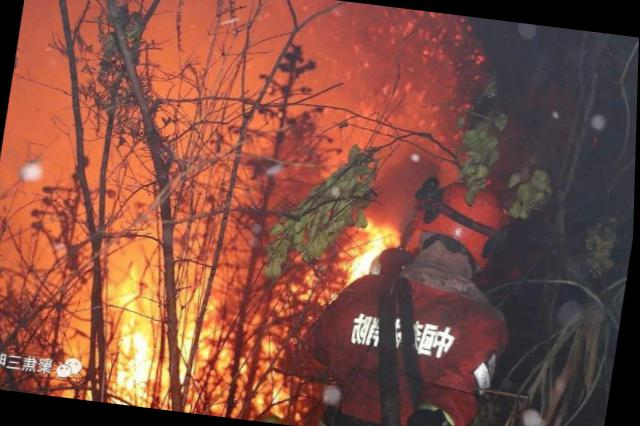fire: (104, 255, 221, 402), (326, 203, 402, 290)
